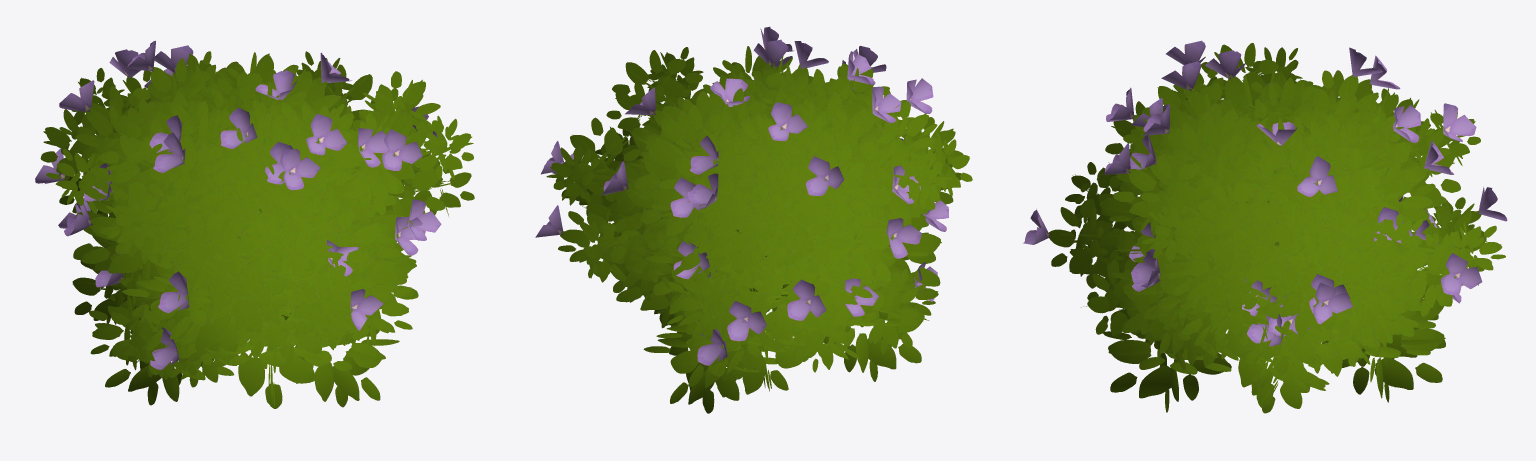
The model's file is Bush_Common_Flowers.medium.gltf.
The picture shows the model from 3 angles, left to right: view 1: azimuth 30°, elevation 25°; view 2: azimuth 150°, elevation 25°; view 3: azimuth 270°, elevation 25°; orthographic projection. The views are drawn at different scales.
Visible parts, largest first — view 1: Bush_Common_Flowers; view 2: Bush_Common_Flowers; view 3: Bush_Common_Flowers.
Boxes of the visible parts, left/top/right/bottom form: Bush_Common_Flowers: left=35, top=40, right=474, bottom=408; Bush_Common_Flowers: left=535, top=26, right=972, bottom=413; Bush_Common_Flowers: left=1023, top=40, right=1507, bottom=413.
Size of the model in its own units: 1.91 by 1.58 by 1.97.
2 materials, 2 textured.
